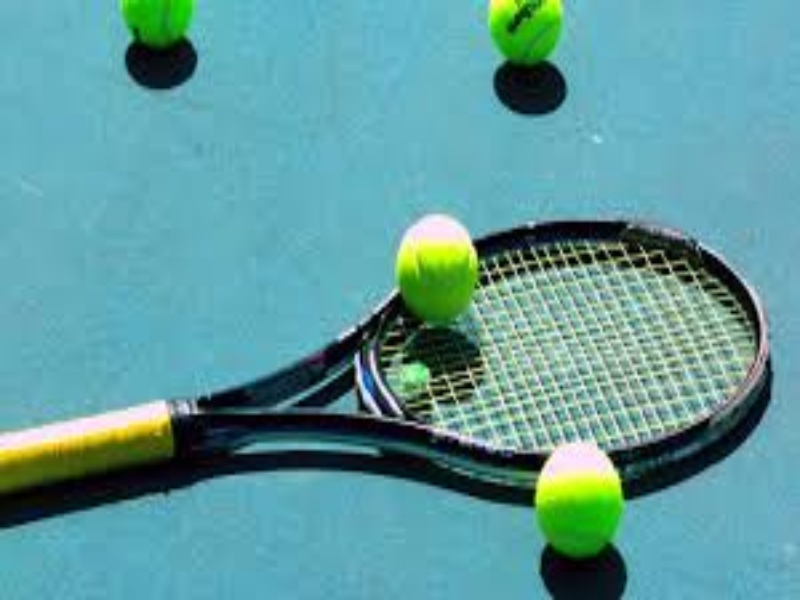tennis ball: (538, 436, 633, 561), (394, 204, 483, 326), (471, 2, 593, 82), (118, 3, 208, 59)
